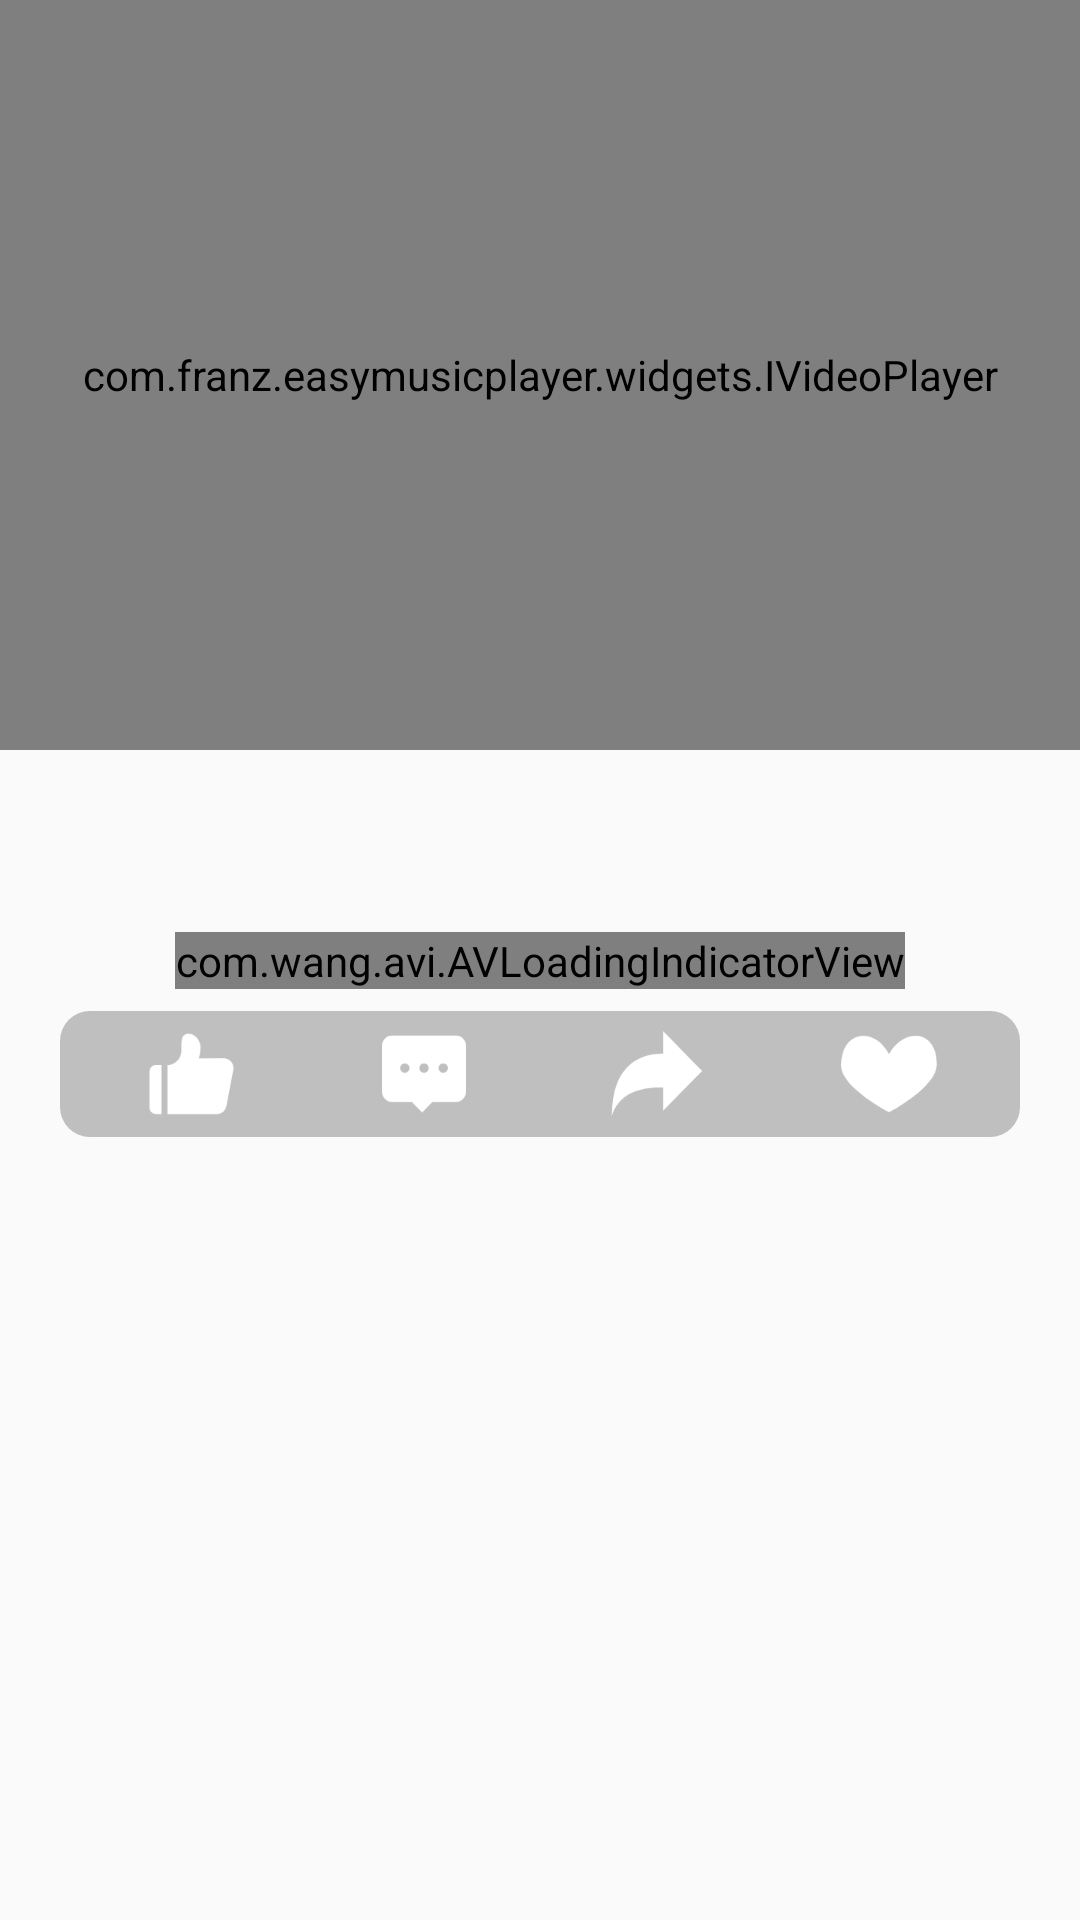

Point at icon controls on the screen. Image size 1080x1920, points as point (x, y).
comment: point (424, 1074)
likes no: point (191, 1074)
loves no: point (889, 1074)
share: point (657, 1073)
